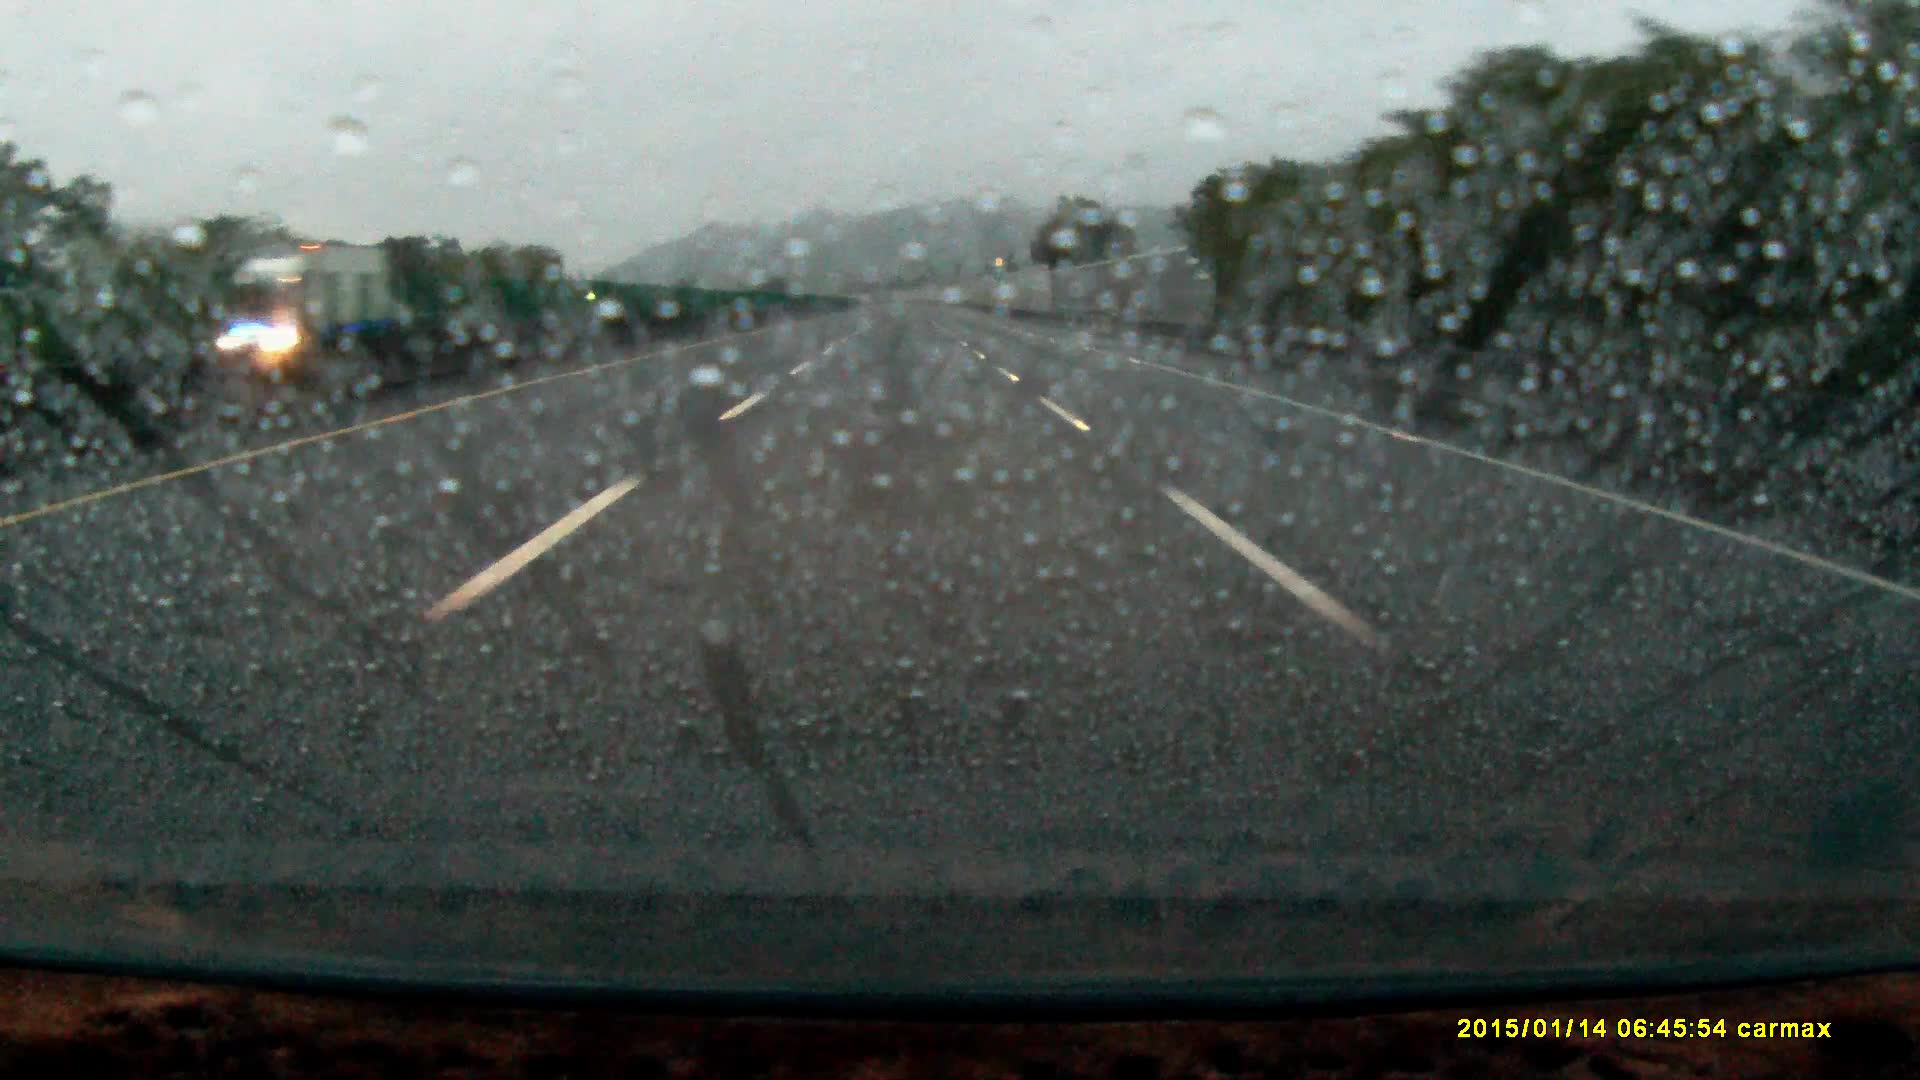vehicle: (219, 245, 394, 357)
